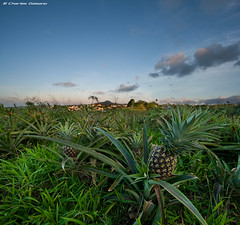Pineapple: (148, 114, 204, 180)
